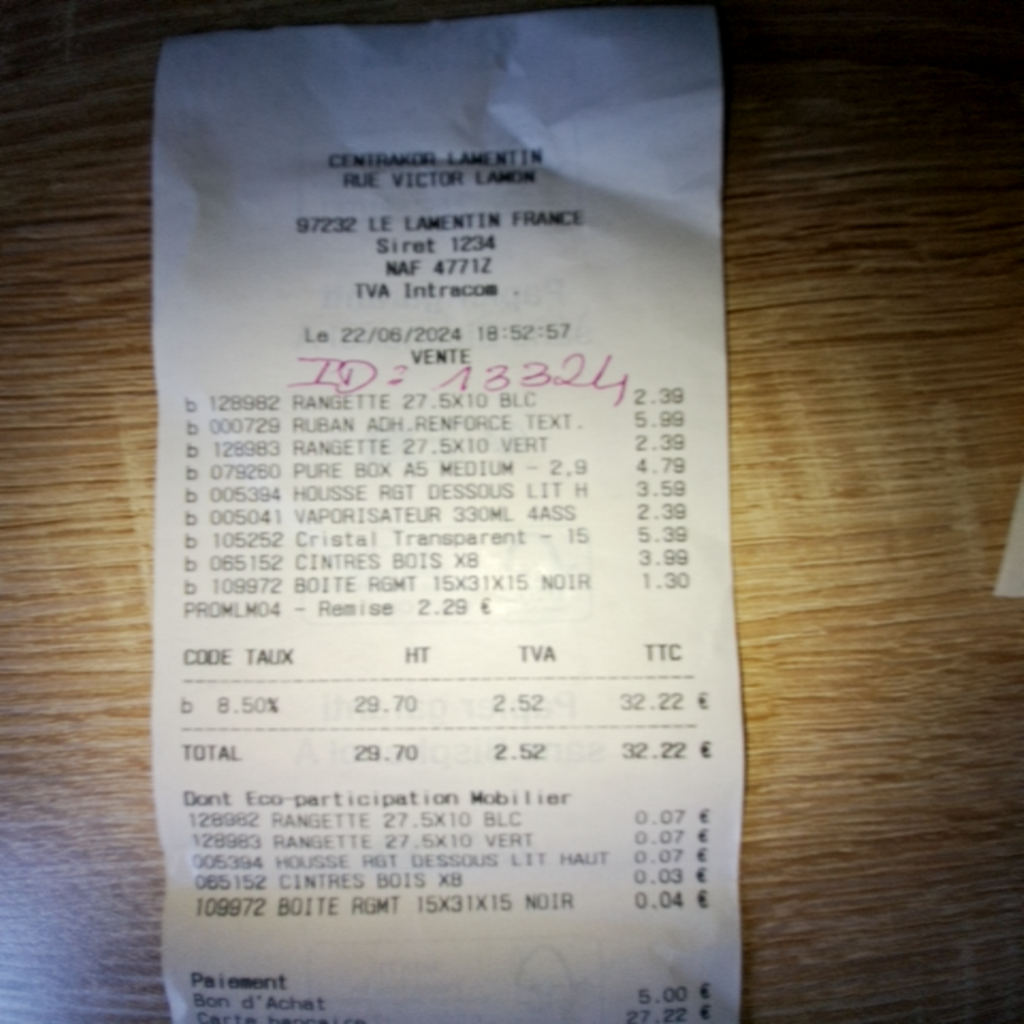recipt: (151, 0, 742, 1024)
